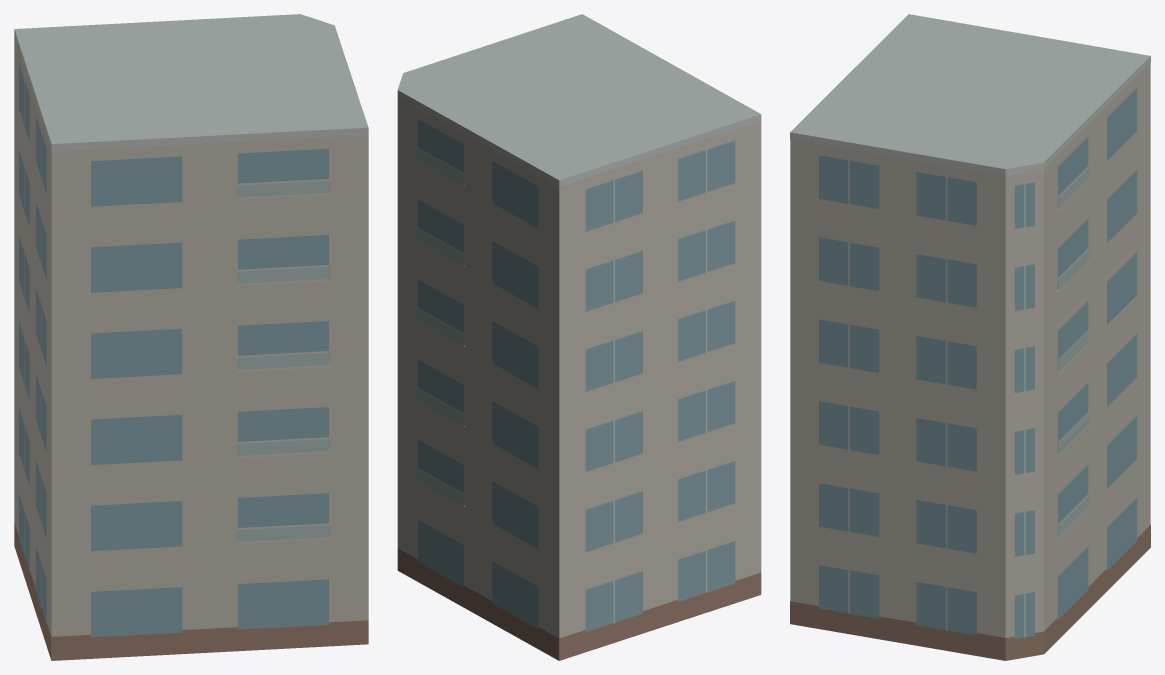
Rendered from survey-upis-32526108.glb.
3 renders of one model, left to right at view 1: azimuth 30°, elevation 25°; view 2: azimuth 150°, elevation 25°; view 3: azimuth 270°, elevation 25°, orthographic. The views are drawn at different scales.
Visible parts, largest first — view 1: survey-upis-32526108.tmp; view 2: survey-upis-32526108.tmp; view 3: survey-upis-32526108.tmp.
Part boxes in pixels (x1=…): survey-upis-32526108.tmp: x1=14, y1=14, x2=368, y2=660; survey-upis-32526108.tmp: x1=397, y1=14, x2=761, y2=660; survey-upis-32526108.tmp: x1=790, y1=14, x2=1150, y2=660.
Bounding box in the file's own units: 11.62 × 17.15 × 11.41.
